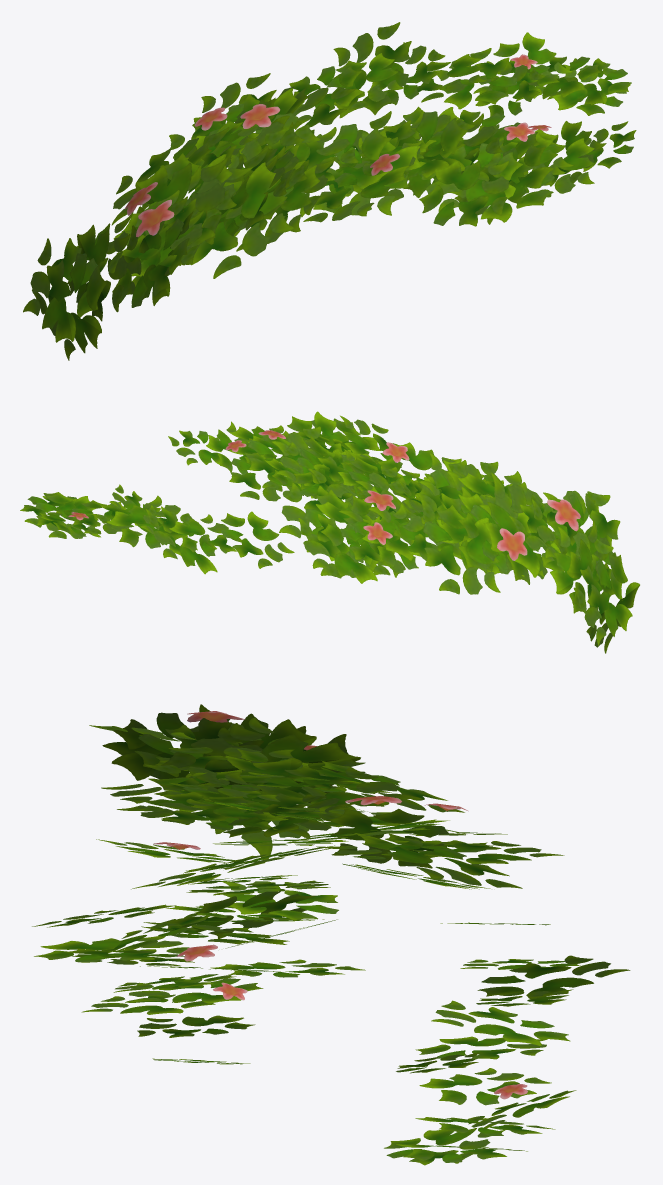
Rendered from P_IvyCoastal02.obj.
3 renders of one model, top to bottom at view 1: azimuth 30°, elevation 25°; view 2: azimuth 150°, elevation 25°; view 3: azimuth 270°, elevation 25°, orthographic. The views are drawn at different scales.
Bounding box in the file's own units: 5.67 × 1.63 × 3.46.
